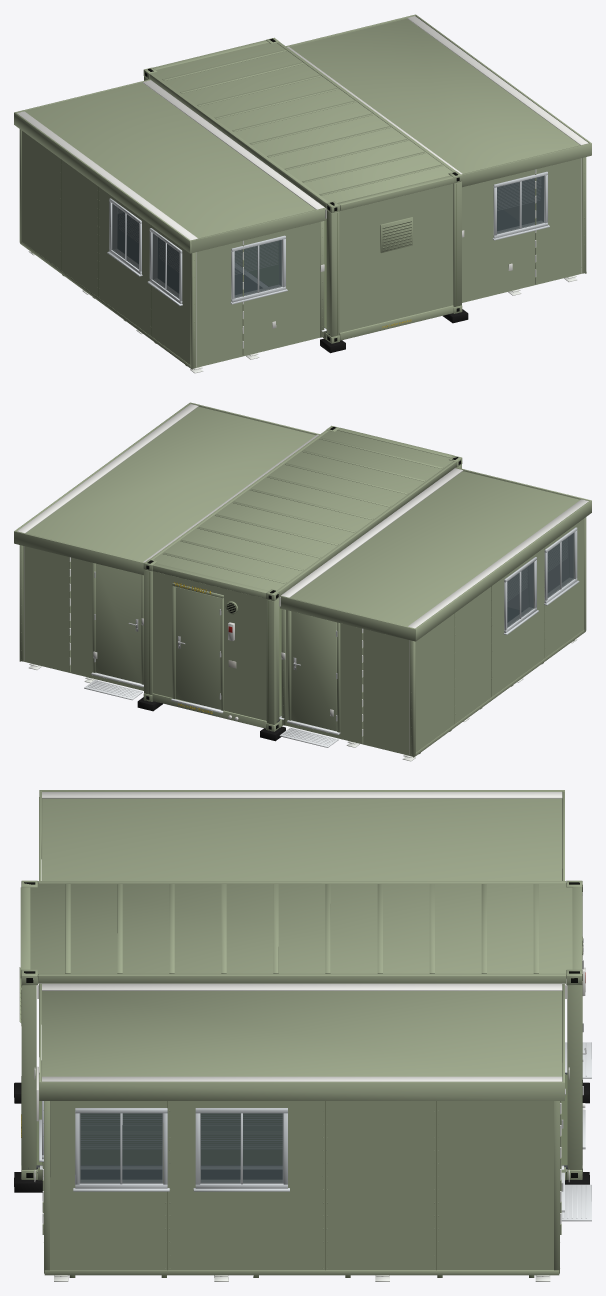
File: hercon-camp.glb
The picture shows the model from 3 angles, top to bottom: view 1: azimuth 30°, elevation 25°; view 2: azimuth 150°, elevation 25°; view 3: azimuth 270°, elevation 25°; orthographic projection. The views are drawn at different scales.
Parts seen in each view (by area): view 1: HERCON_expansion_L, HERCON_core, HERCON_expansion_R; view 2: HERCON_expansion_L, HERCON_core, HERCON_expansion_R; view 3: HERCON_expansion_R, HERCON_core, HERCON_expansion_L, HERCON_interior.
Part boxes in pixels (<box>): HERCON_expansion_L: <box>14,79,325,373</box>; HERCON_core: <box>143,37,468,353</box>; HERCON_expansion_R: <box>286,14,591,302</box>; HERCON_expansion_L: <box>279,467,591,761</box>; HERCON_core: <box>137,425,462,741</box>; HERCON_expansion_R: <box>14,402,319,700</box>; HERCON_expansion_R: <box>39,984,591,1281</box>; HERCON_core: <box>14,880,589,1192</box>; HERCON_expansion_L: <box>39,790,591,1078</box>; HERCON_interior: <box>28,979,569,1182</box>.
Size of the model in its own units: 7.48 by 2.56 by 6.24.
